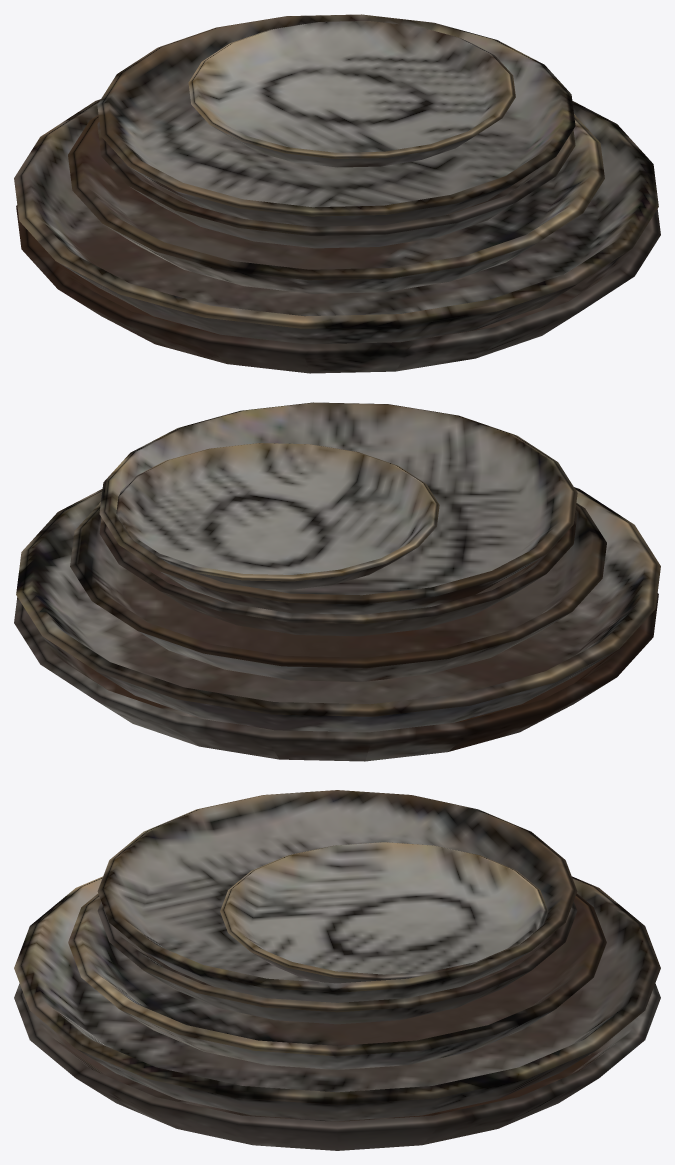
Rendered from stack plate.fbx.
The picture shows the model from 3 angles, top to bottom: view 1: azimuth 30°, elevation 25°; view 2: azimuth 150°, elevation 25°; view 3: azimuth 270°, elevation 25°; orthographic projection.
Visible parts, largest first — view 1: Strove.011; view 2: Strove.011; view 3: Strove.011.
Boxes of the visible parts, x1=… form: Strove.011: x1=14, y1=14, x2=660, y2=373; Strove.011: x1=14, y1=402, x2=660, y2=761; Strove.011: x1=14, y1=790, x2=660, y2=1150.
Size of the model in its own units: 38.5 by 9.65 by 38.36.
1 material, 1 textured.
